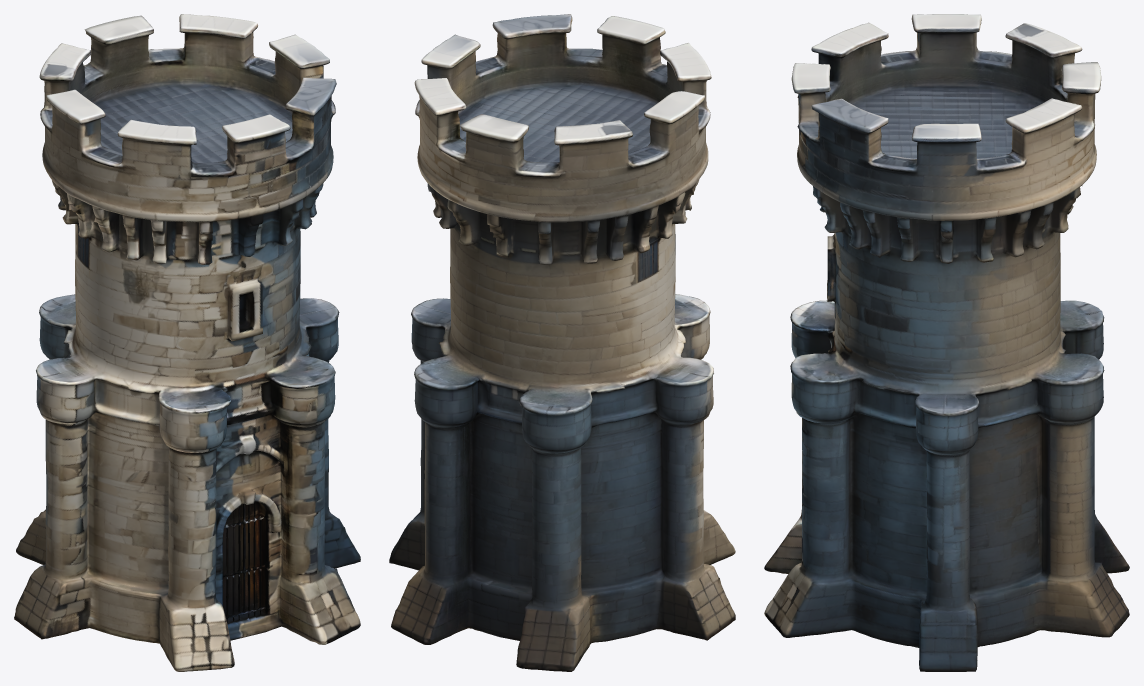
Rendered from base_basic_pbr.fbx.
3 views of the same model, side by side, from view 1: azimuth 30°, elevation 25°; view 2: azimuth 150°, elevation 25°; view 3: azimuth 270°, elevation 25° (orthographic).
Parts seen in each view (by area): view 1: model; view 2: model; view 3: model.
Boxes of the visible parts, x1,y1,x2,y2 form: model: (14,14,360,671); model: (389,14,735,671); model: (764,14,1129,671).
Size of the model in its own units: 120 by 185 by 118.
1 material, 1 textured.
